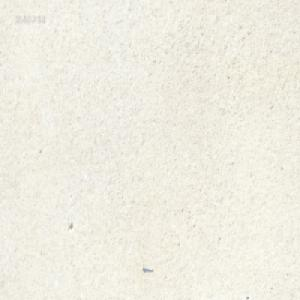Nail: (142, 265, 153, 272)
